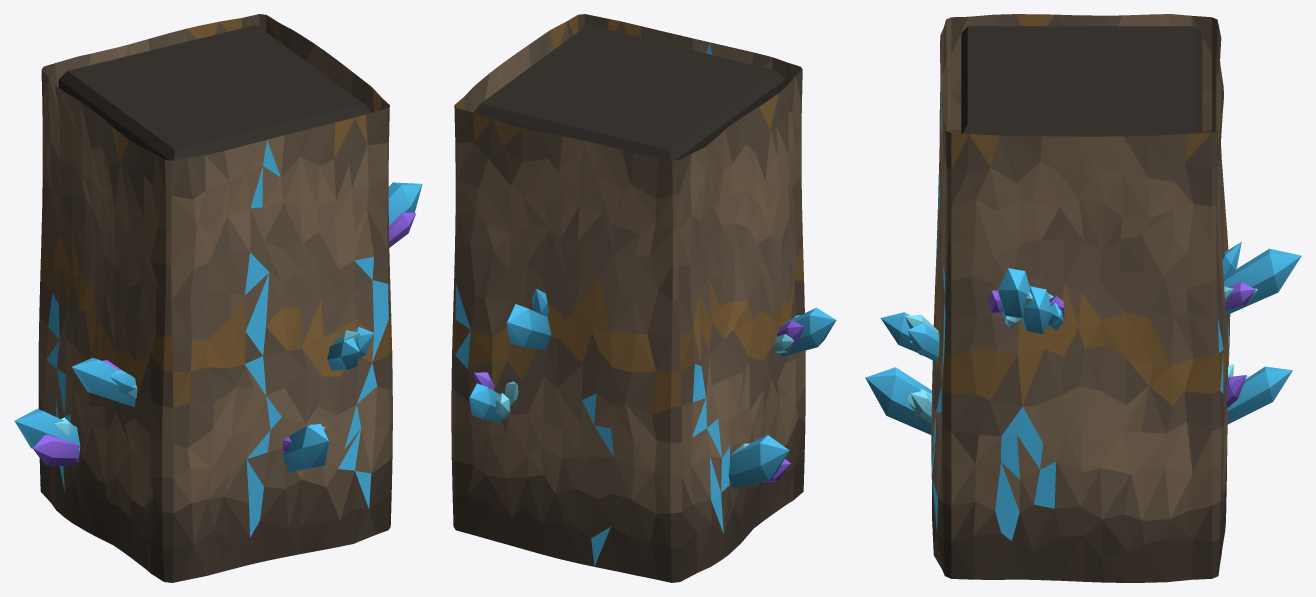
The model's file is wall_b.fbx.
3 renders of one model, left to right at view 1: azimuth 30°, elevation 25°; view 2: azimuth 150°, elevation 25°; view 3: azimuth 270°, elevation 25°, orthographic. The views are drawn at different scales.
Parts seen in each view (by area): view 1: wall_b; view 2: wall_b; view 3: wall_b.
Boxes of the visible parts, <box> form: wall_b: <box>14,14,422,582</box>; wall_b: <box>451,14,836,582</box>; wall_b: <box>865,14,1301,582</box>.
Size of the model in its own units: 4 by 4.5 by 4.
